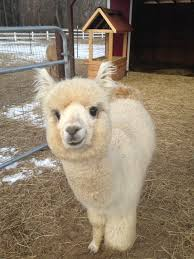alpaca: (31, 59, 155, 255)
